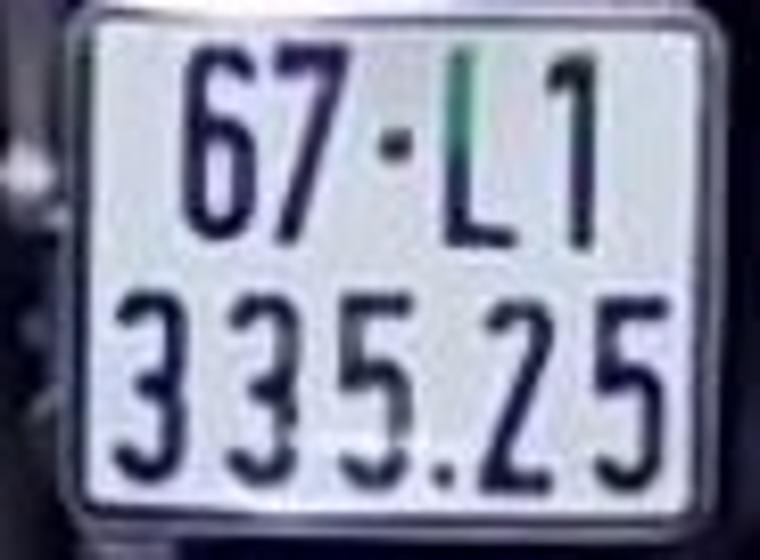-: (367, 131, 415, 157)
.: (431, 459, 453, 492)
1: (538, 49, 597, 255)
2: (477, 297, 556, 498)
3: (112, 288, 185, 485), (231, 283, 299, 484)
5: (331, 285, 417, 494), (592, 291, 667, 489)
6: (177, 40, 257, 244)
7: (274, 43, 352, 245)
L: (439, 48, 516, 249)
